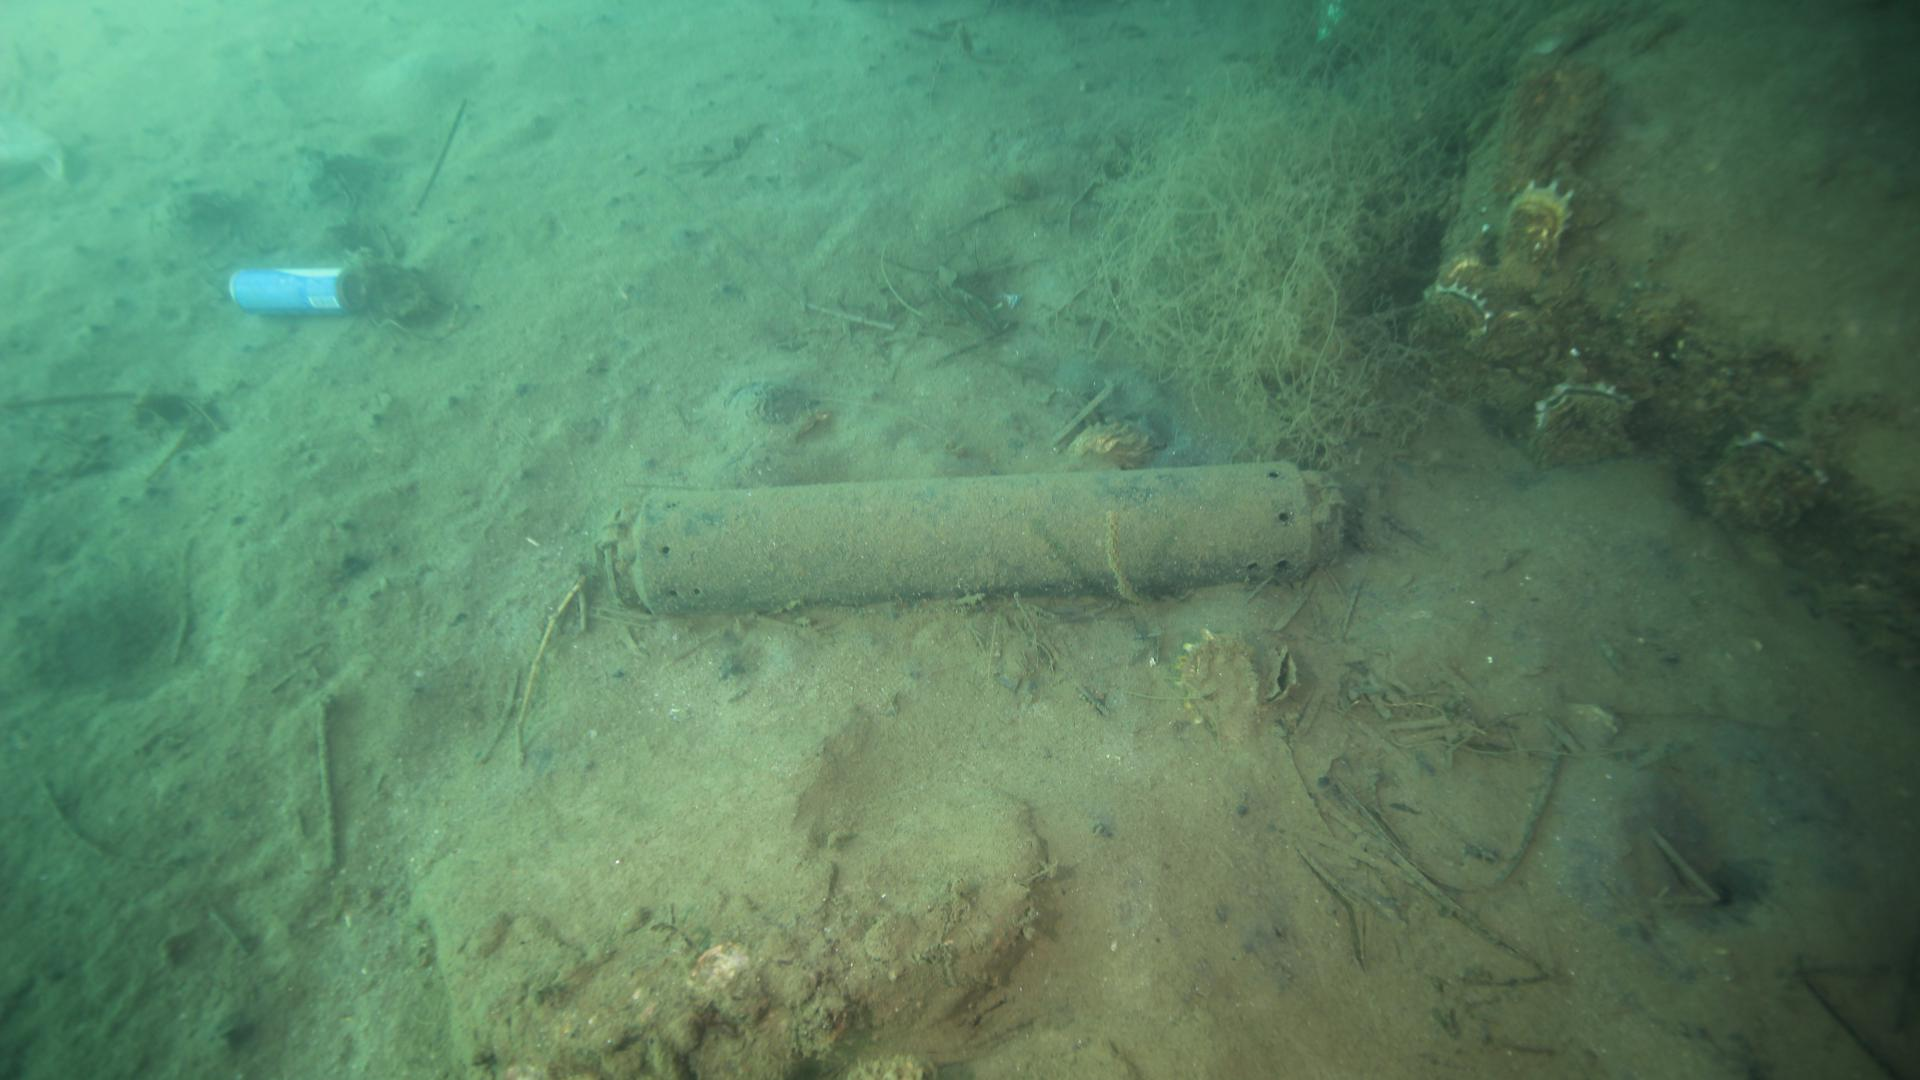eel fish trap: (600, 459, 1353, 618)
